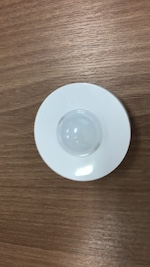bulb: (33, 83, 131, 182)
